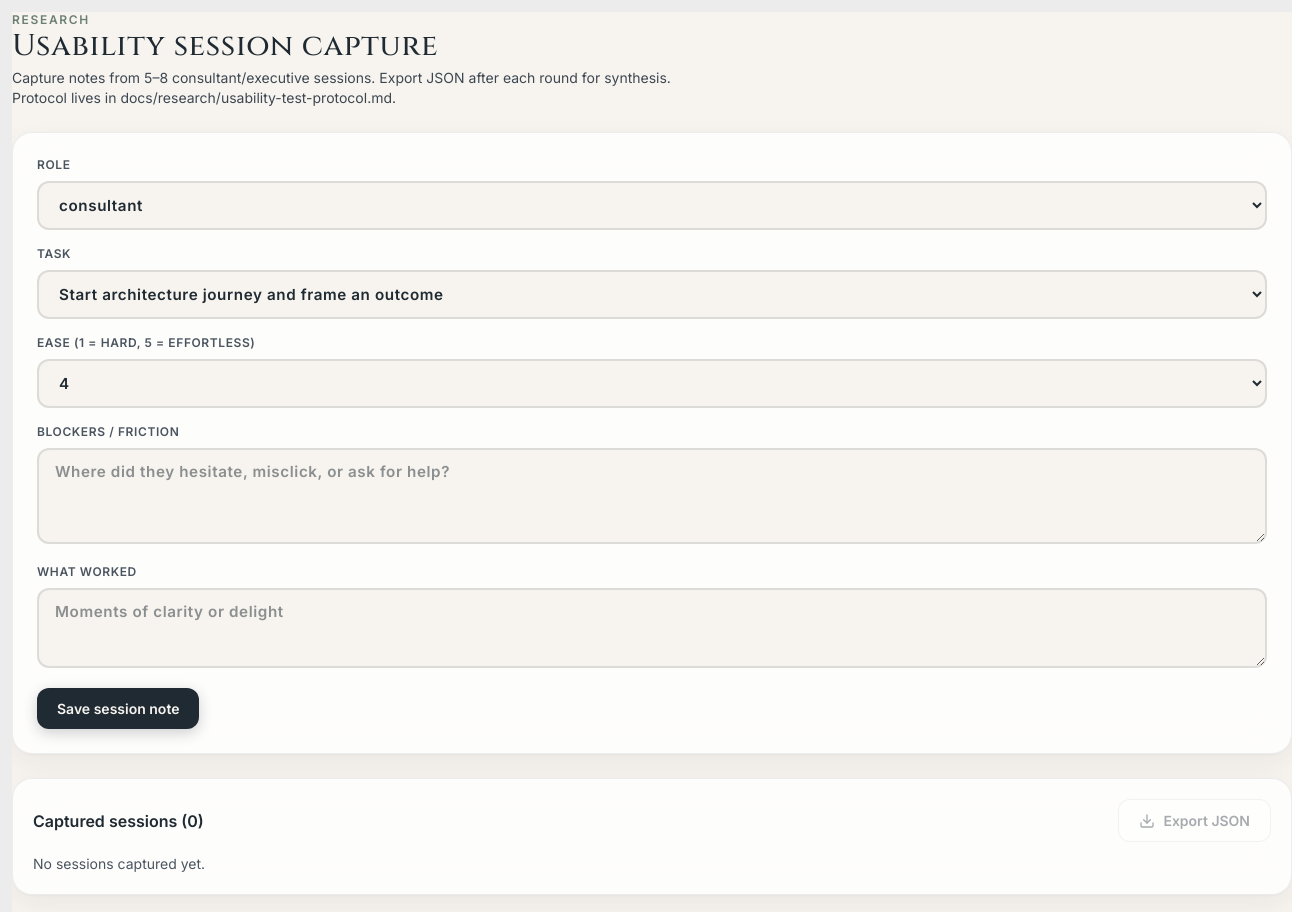
Test: ResearchFeedbackView › shows validation error when blockers are too short
In the text box with test id "feedback-blockers": (652, 496) left=37, top=448, right=1267, bottom=544, type "no"
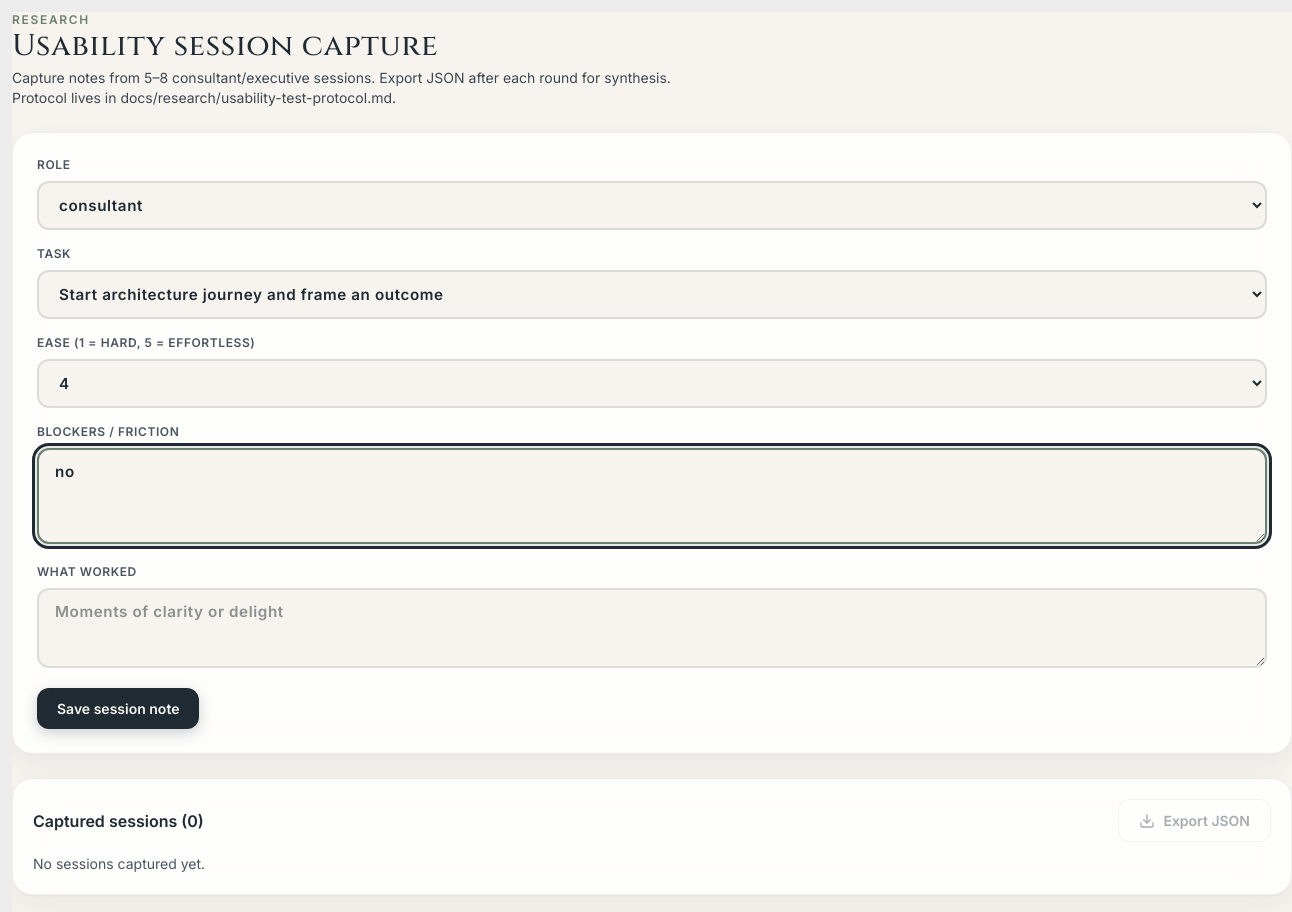
Click the button with test id "feedback-submit": (118, 708) left=37, top=688, right=200, bottom=729
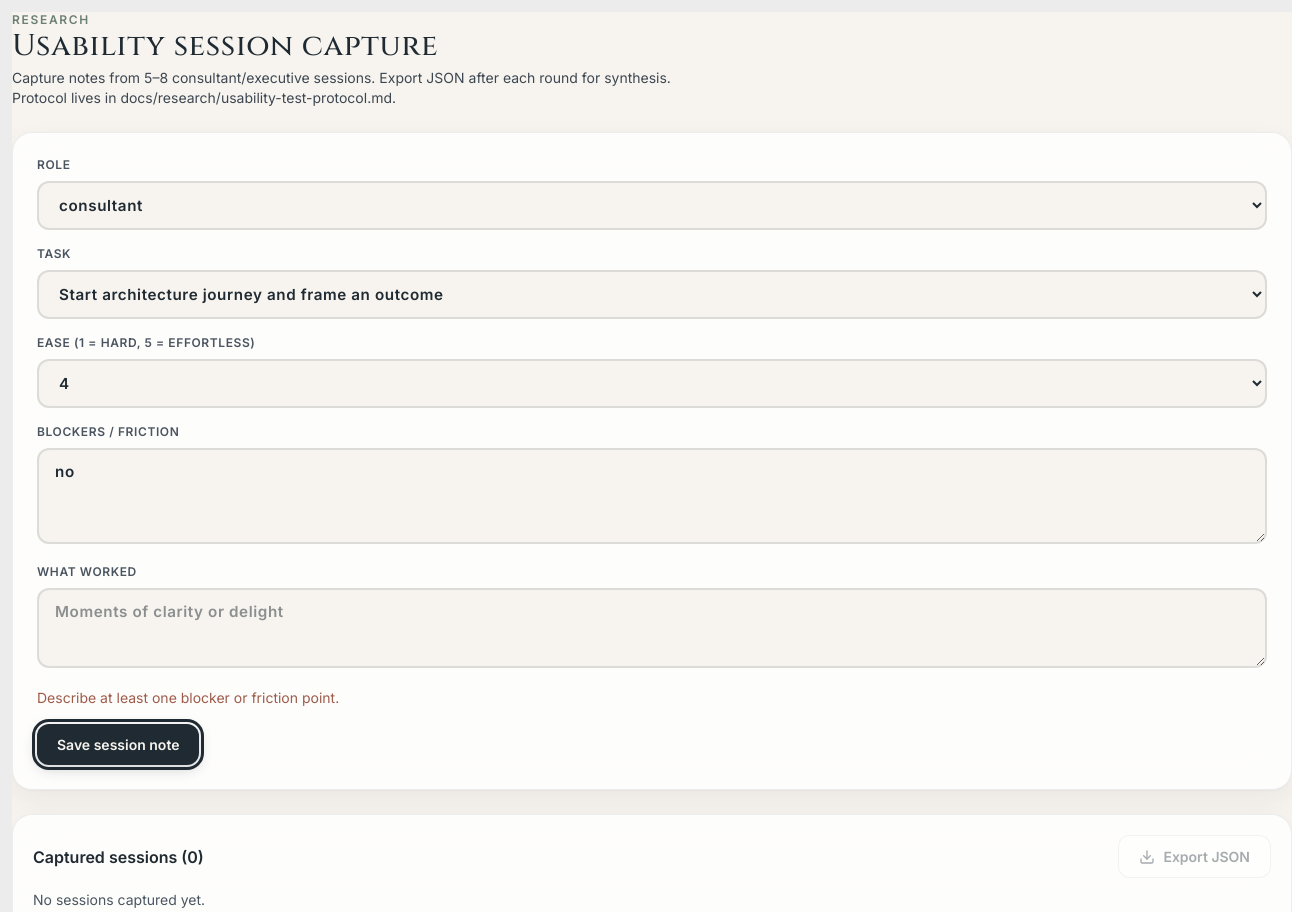
Now the message "Describe at least one blocker or friction point." is shown, box left=37, top=689, right=339, bottom=706
